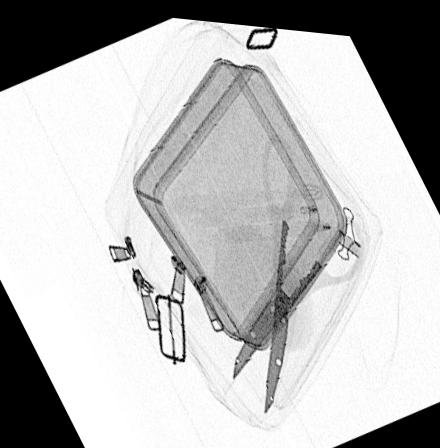Scissors: (230, 126, 369, 410)
